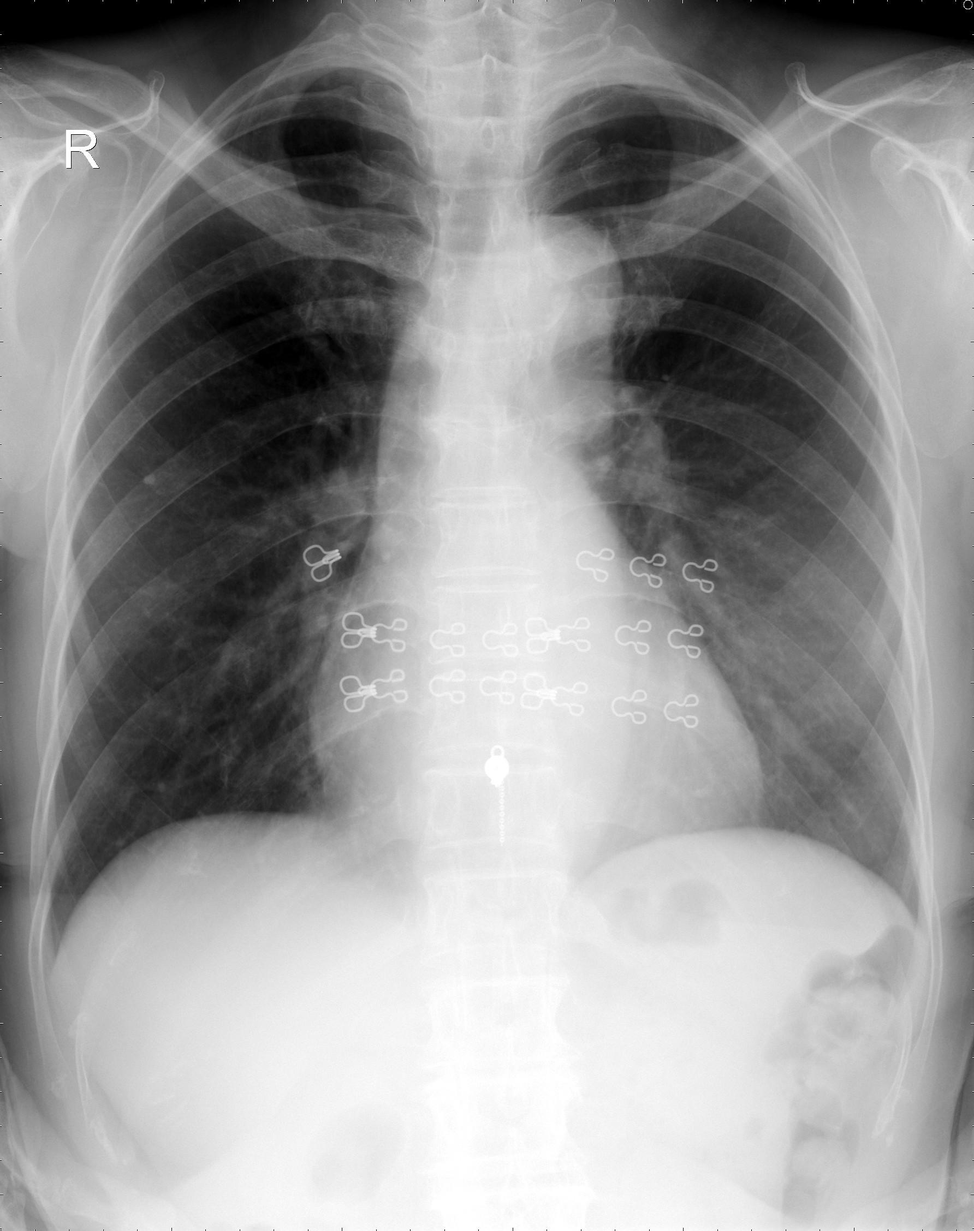Aortic enlargement: (497, 206, 617, 355)
